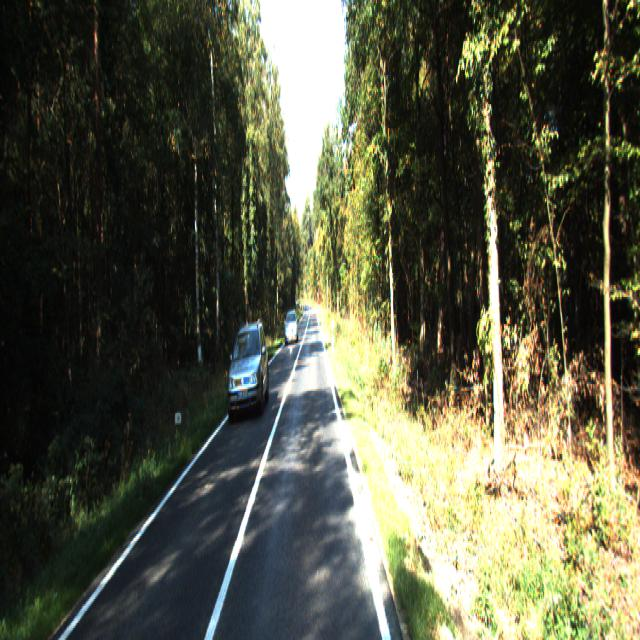Car: (224, 316, 271, 421), (284, 310, 298, 346)
